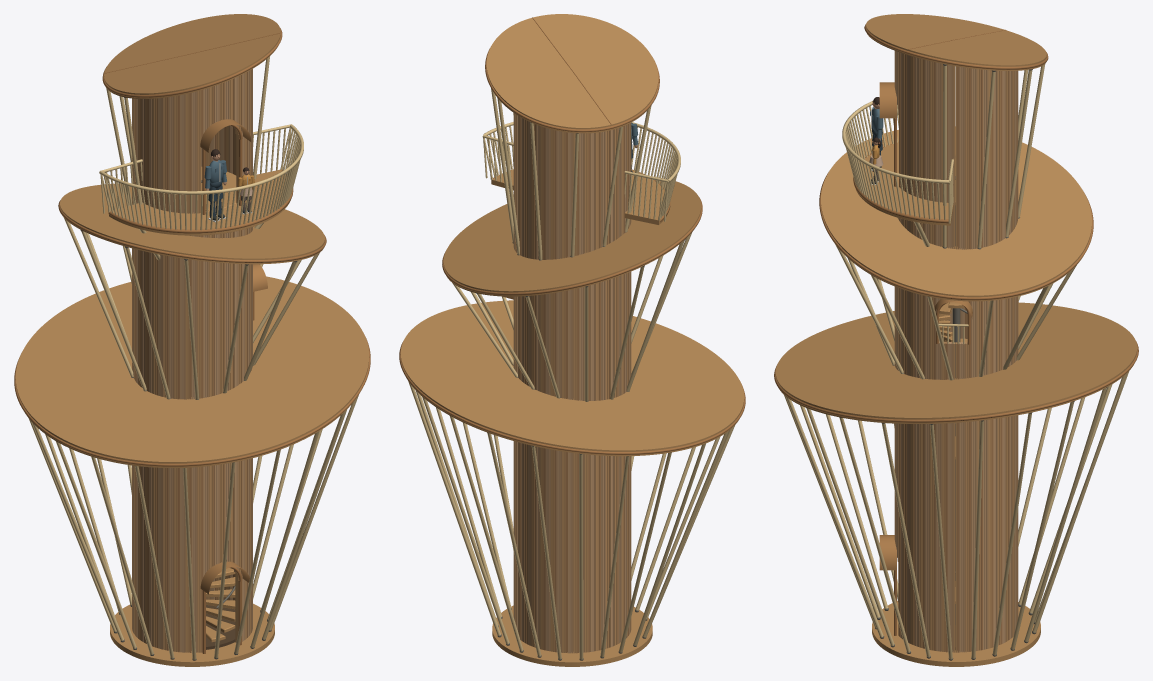
Rendered from Pedro.glb.
The picture shows the model from 3 angles, left to right: view 1: azimuth 30°, elevation 25°; view 2: azimuth 150°, elevation 25°; view 3: azimuth 270°, elevation 25°; orthographic projection. The views are drawn at different scales.
Visible parts, largest first — view 1: Structure, Fut, Interieur_interprete, Pere; view 2: Structure, Fut; view 3: Structure, Fut, Interieur_interprete.
Boxes of the visible parts, x1=… form: Structure: x1=14, y1=14, x2=370, y2=666; Fut: x1=132, y1=69, x2=252, y2=652; Interieur_interprete: x1=201, y1=166, x2=236, y2=649; Pere: x1=204, y1=149, x2=226, y2=202; Structure: x1=399, y1=14, x2=745, y2=666; Fut: x1=513, y1=113, x2=631, y2=653; Structure: x1=774, y1=14, x2=1138, y2=666; Fut: x1=894, y1=51, x2=1018, y2=652; Interieur_interprete: x1=939, y1=155, x2=967, y2=649.
Size of the model in its own units: 8.07 by 15 by 8.07.
